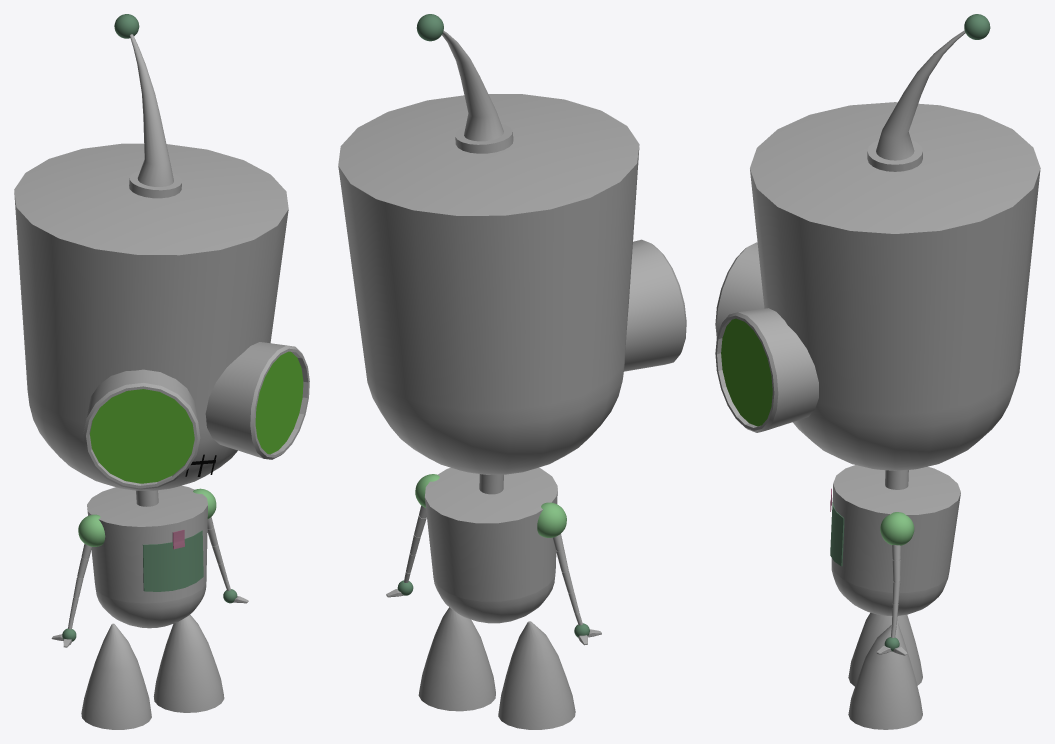
File: gir.fbx
The picture shows the model from 3 angles, left to right: view 1: azimuth 30°, elevation 25°; view 2: azimuth 150°, elevation 25°; view 3: azimuth 270°, elevation 25°; orthographic projection. The views are drawn at different scales.
Parts seen in each view (by area): view 1: cabeza, ojo_der, cuerpo, ojo_izq, pata_der, pata_izq, antena, monitor, hombro_der, brazo_der, bola_antena, brazo_izq; view 2: cabeza, cuerpo, ojo_der, pata_der, pata_izq, antena, hombro_der, brazo_der, bola_antena; view 3: cabeza, cuerpo, ojo_izq, pata_izq, antena, ojo_der, pata_der, hombro_izq, monitor, brazo_izq, bola_antena.
Part boxes in pixels (x1,y1,x2,y2): cabeza: [14, 143, 288, 490]; ojo_der: [83, 369, 200, 489]; cuerpo: [87, 485, 207, 628]; ojo_izq: [205, 342, 309, 459]; pata_der: [81, 623, 151, 729]; pata_izq: [153, 614, 224, 712]; antena: [129, 34, 181, 198]; monitor: [143, 530, 203, 591]; hombro_der: [78, 514, 105, 546]; brazo_der: [68, 544, 92, 629]; bola_antena: [114, 14, 139, 38]; brazo_izq: [207, 517, 230, 590]; cabeza: [338, 94, 639, 474]; cuerpo: [424, 467, 557, 623]; ojo_der: [624, 239, 686, 371]; pata_der: [498, 621, 575, 729]; pata_izq: [418, 607, 495, 711]; antena: [442, 31, 513, 153]; hombro_der: [537, 502, 566, 537]; brazo_der: [552, 534, 582, 625]; bola_antena: [416, 14, 443, 41]; cabeza: [750, 102, 1040, 470]; cuerpo: [831, 465, 960, 615]; ojo_izq: [715, 308, 818, 432]; pata_izq: [848, 622, 922, 729]; antena: [867, 30, 965, 171]; ojo_der: [715, 242, 764, 337]; pata_der: [848, 612, 922, 686]; hombro_izq: [880, 512, 914, 545]; monitor: [830, 502, 844, 566]; brazo_izq: [891, 545, 900, 637]; bola_antena: [964, 14, 990, 39].
Bounding box in the file's own units: 3.99 × 10.28 × 4.39.
